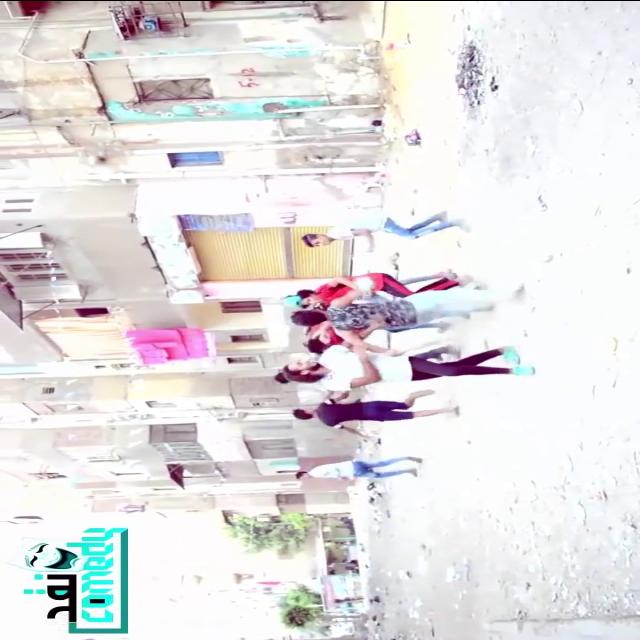NonViolence: (279, 341, 526, 388), (287, 206, 475, 256), (286, 388, 447, 443), (290, 453, 420, 489)
Violence: (276, 266, 504, 344)
